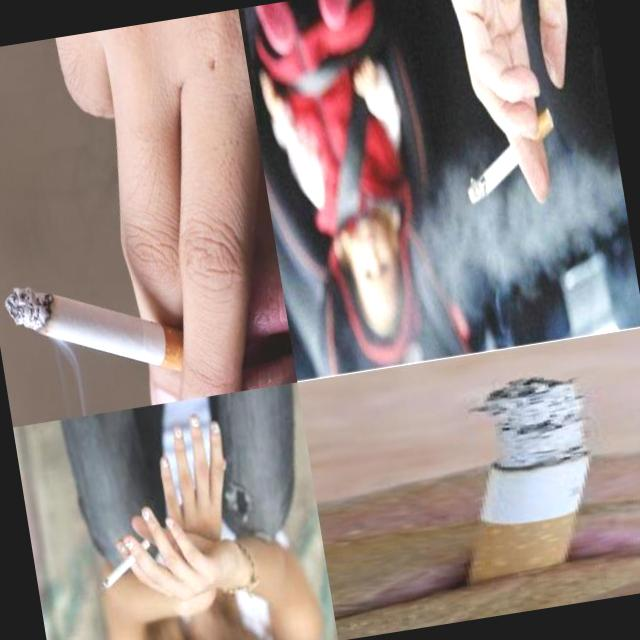smoke: (422, 368, 612, 606), (0, 256, 225, 412), (456, 106, 564, 204), (95, 536, 156, 592)
